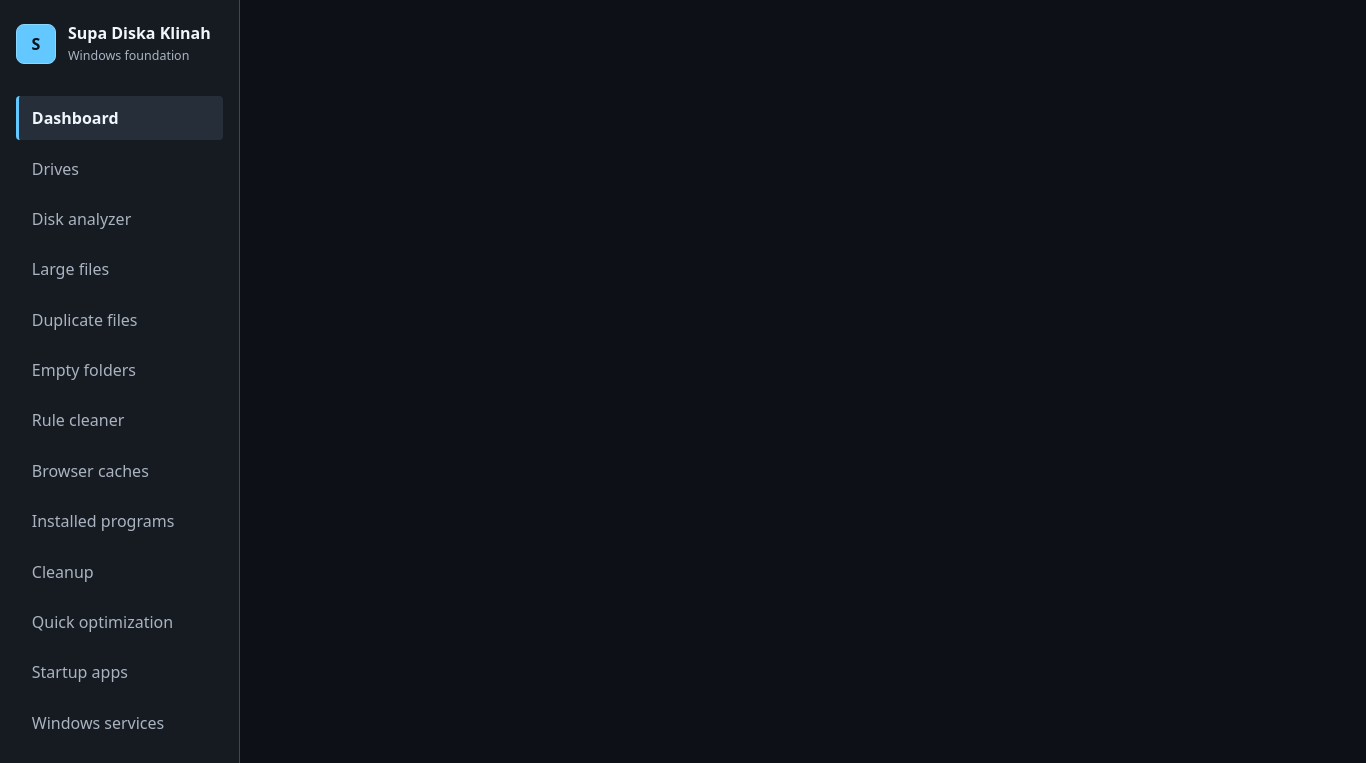
Test: is reachable through the actual shell navigation and route
Click the link "Drives".
click(55, 169)  # box [32,158,79,180]
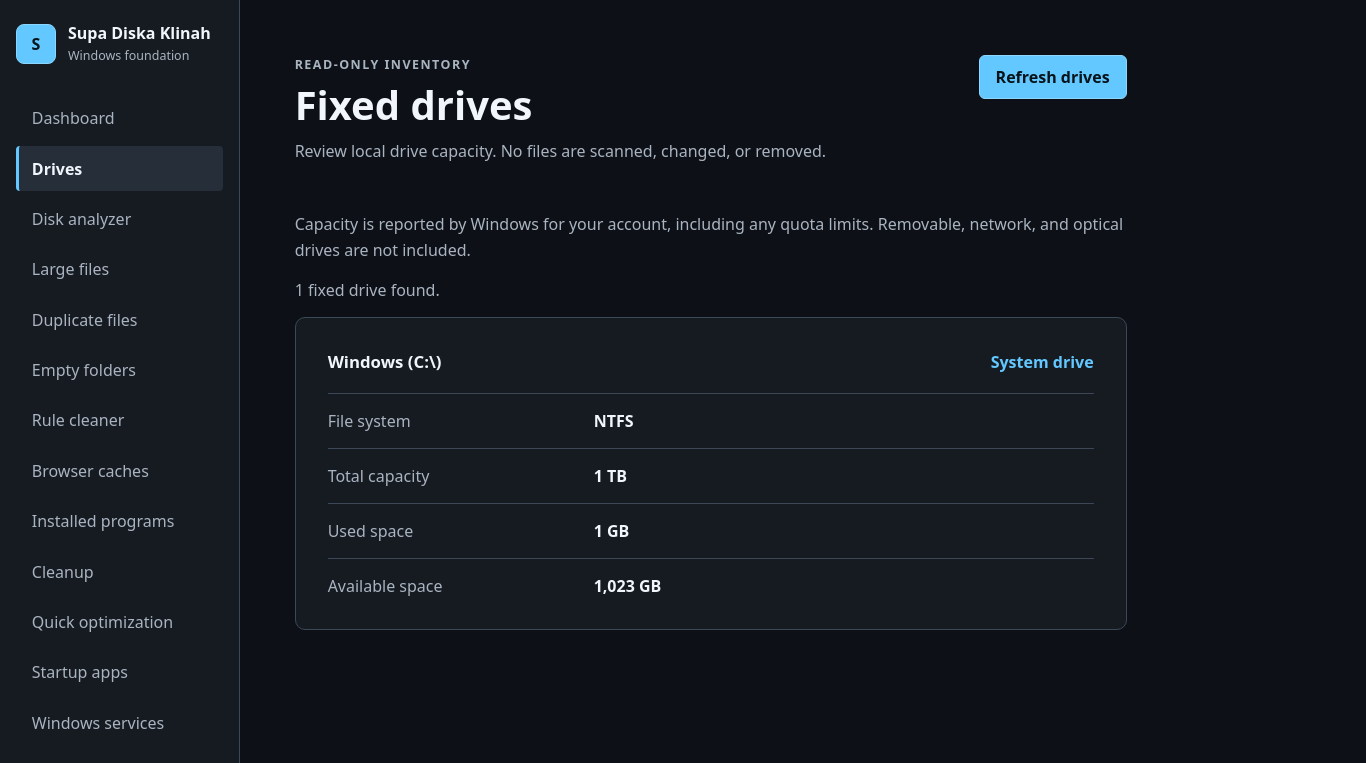
Expected: the heading "Windows (C:\\)" is shown, [328,350,442,373]
